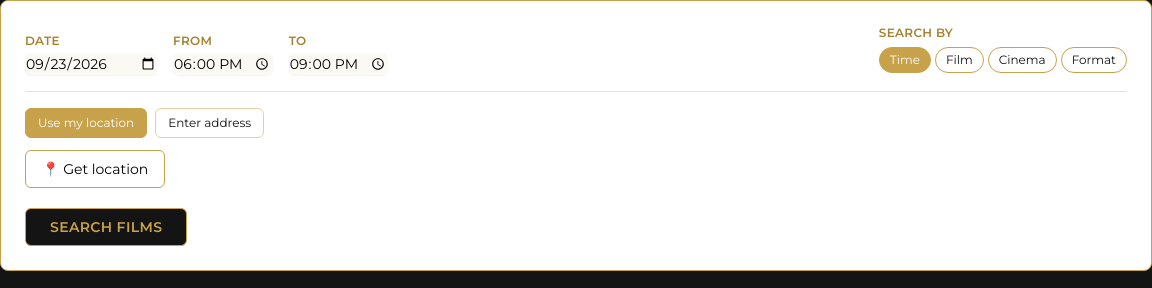
it: mode switching › switches to Film mode and shows film title input
The image size is (1152, 288).
Click the button "Film".
click(959, 60)  # box [935,47,984,73]
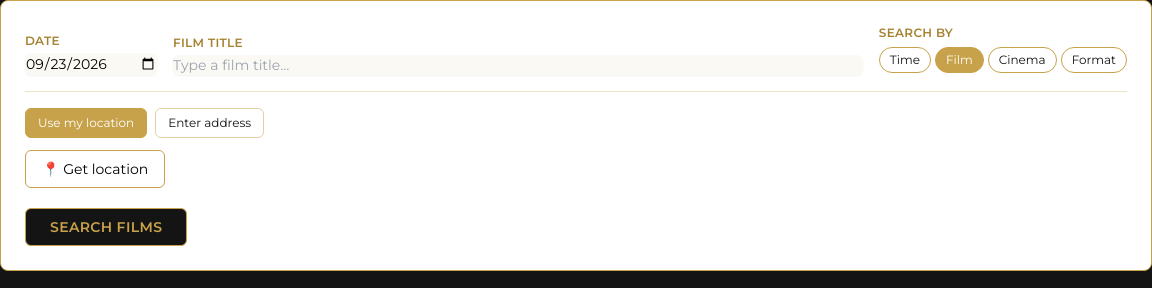
Now the field labelled "Film title" is shown, box [173,55,863,75]
Now the label labelled "From" is gone
